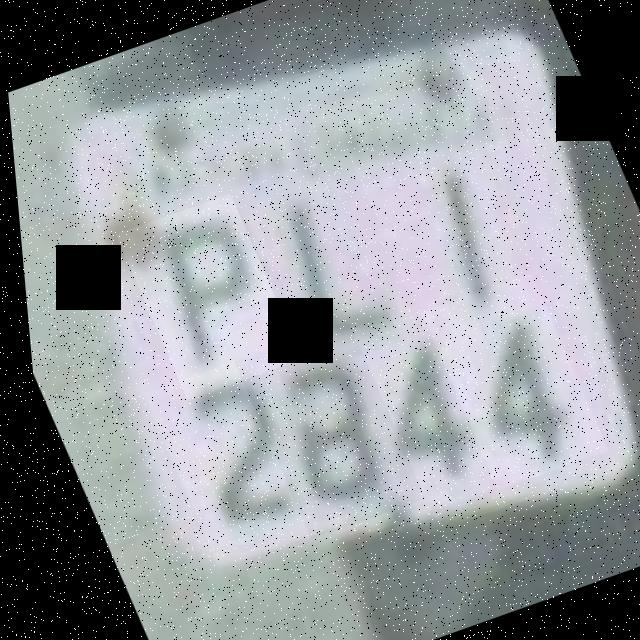2: (132, 348, 337, 568)
4: (320, 295, 513, 510), (413, 272, 603, 490)
8: (224, 320, 419, 538)
L: (225, 155, 422, 374)
P: (108, 193, 297, 399)
